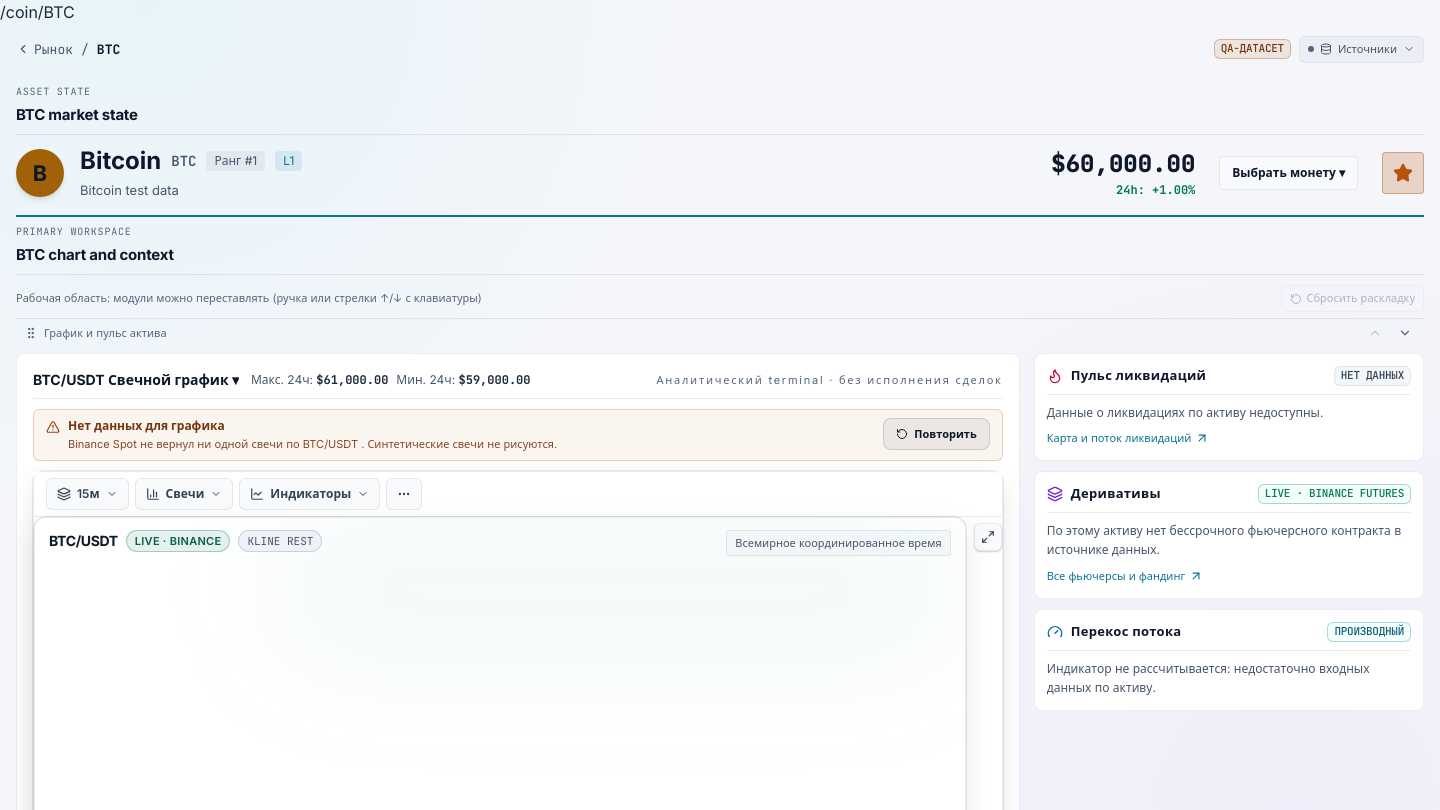
Scenario: CoinDetailPage failure isolation and symbol navigation › selecting ETH changes the route and requests ETH rather than reusing BTC state
Expected: the heading "Bitcoin" is shown, [80,145,161,177]
Click the button "Выбрать монету ▾" at {"x": 1289, "y": 173}, box [1219,156,1358,190]
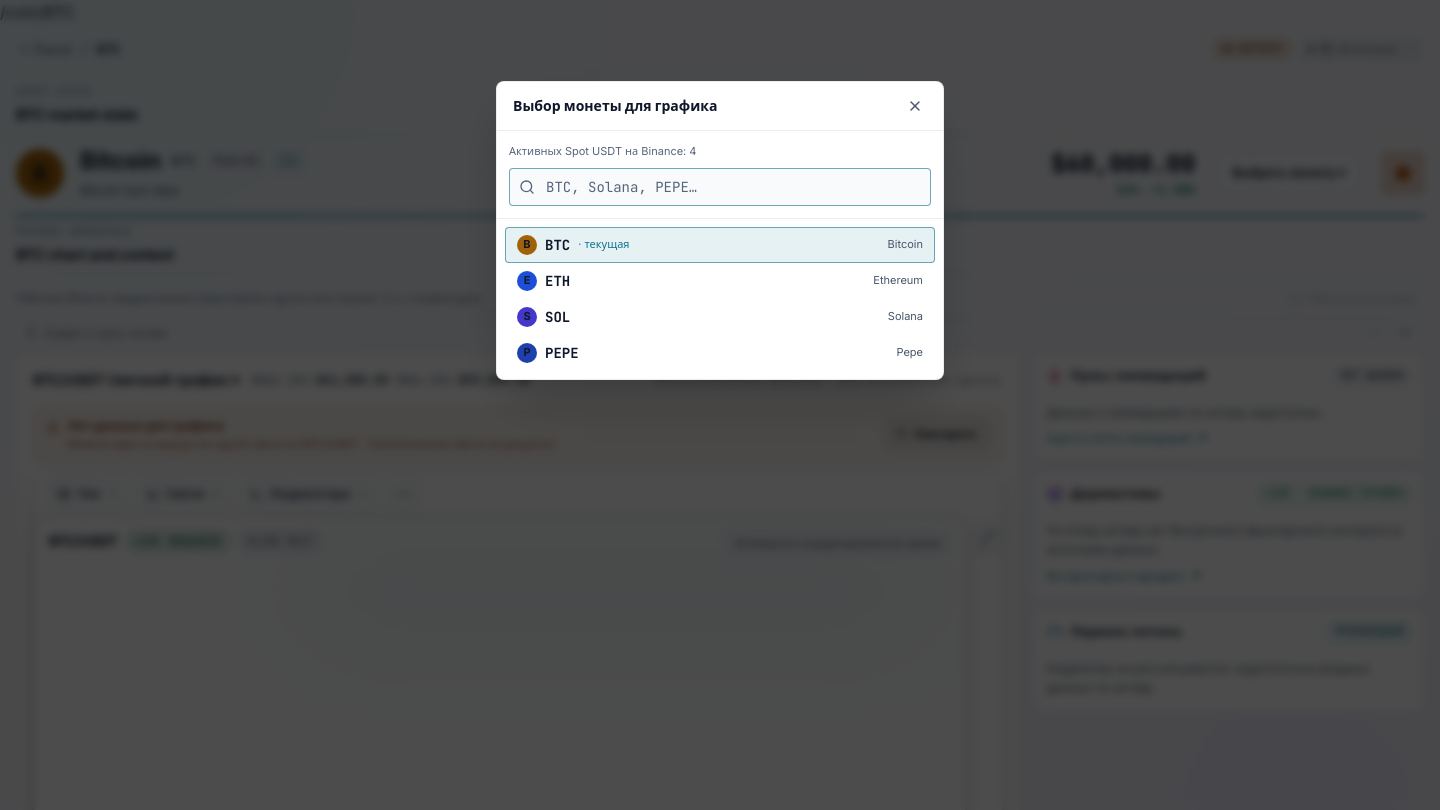
Expected: the button "PEPE Pepe" is shown, [505,334,935,370]
Click the button "ETH Ethereum" at {"x": 898, "y": 280}, box [505,262,935,298]
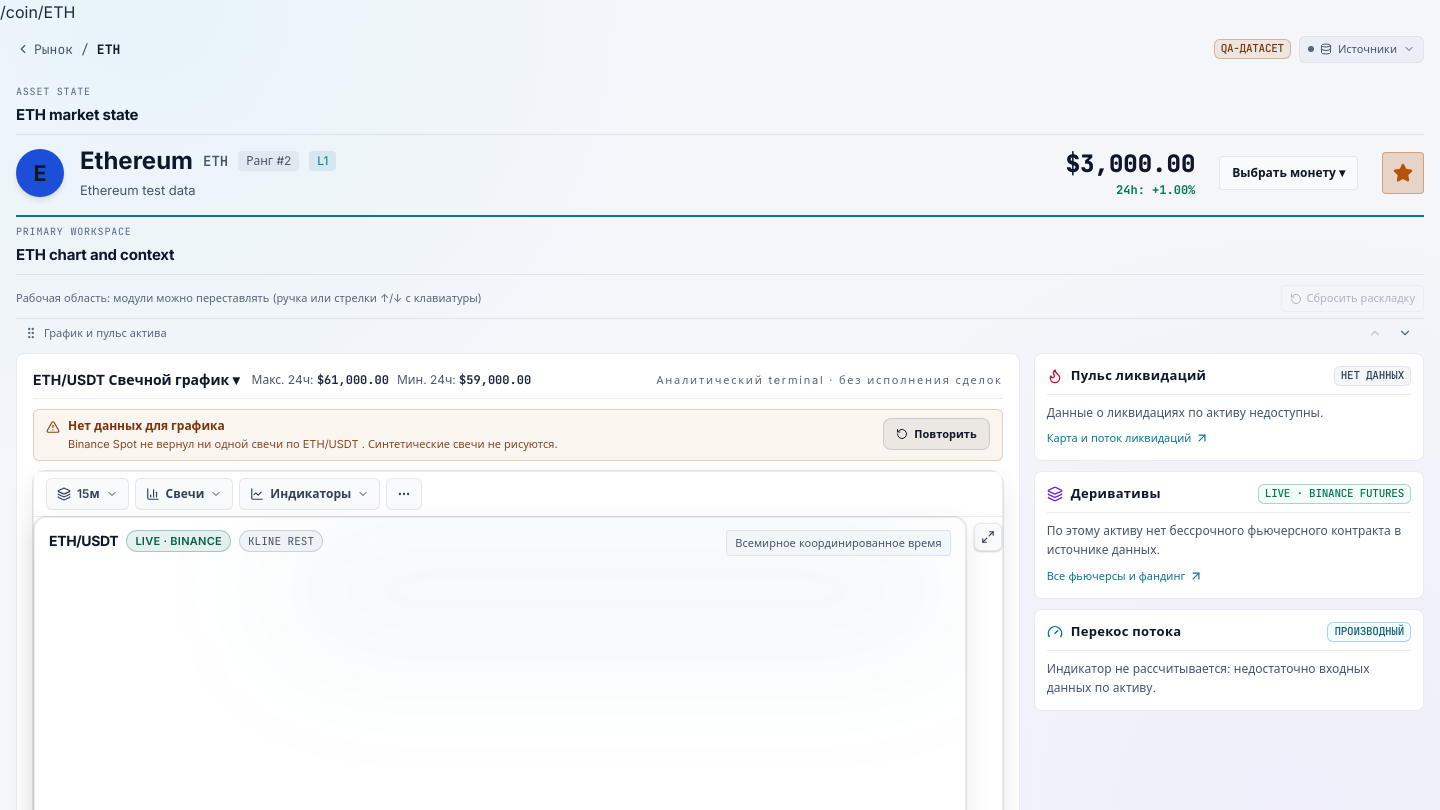
Expected: the heading "Ethereum" is shown, [80,145,193,177]
Expected: the text with test id "current-route" reads "/coin/ETH", [0,2,75,22]
